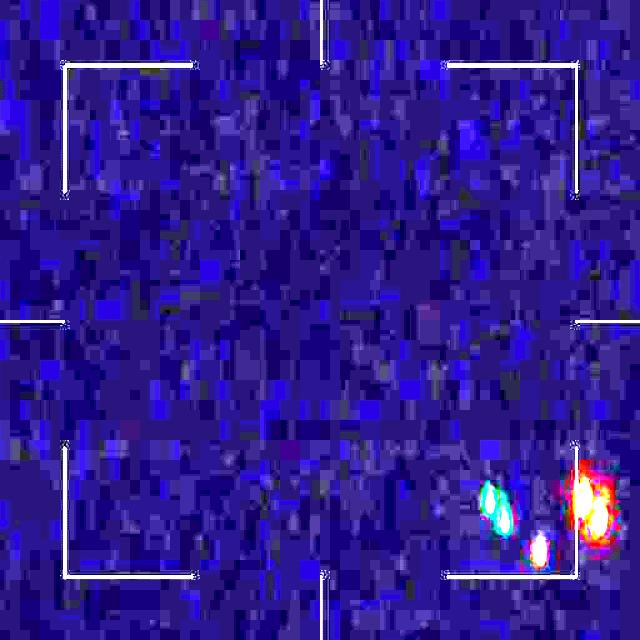bird: (480, 475, 608, 568)
